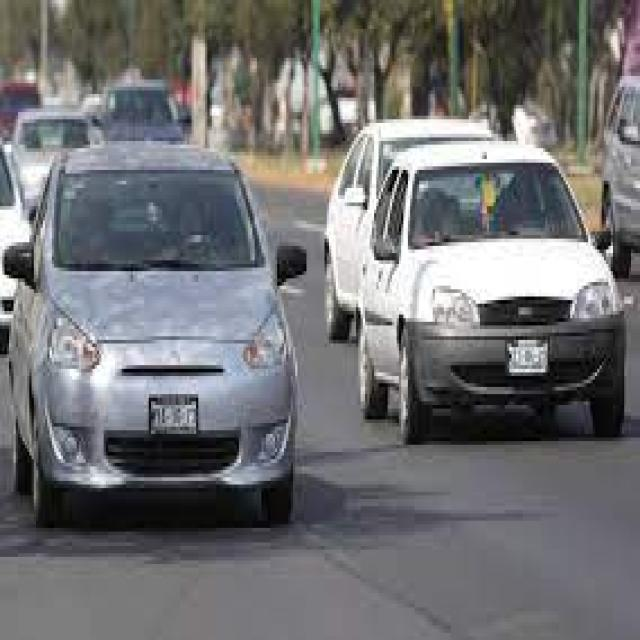placa: (148, 404, 200, 428), (508, 348, 551, 368)
